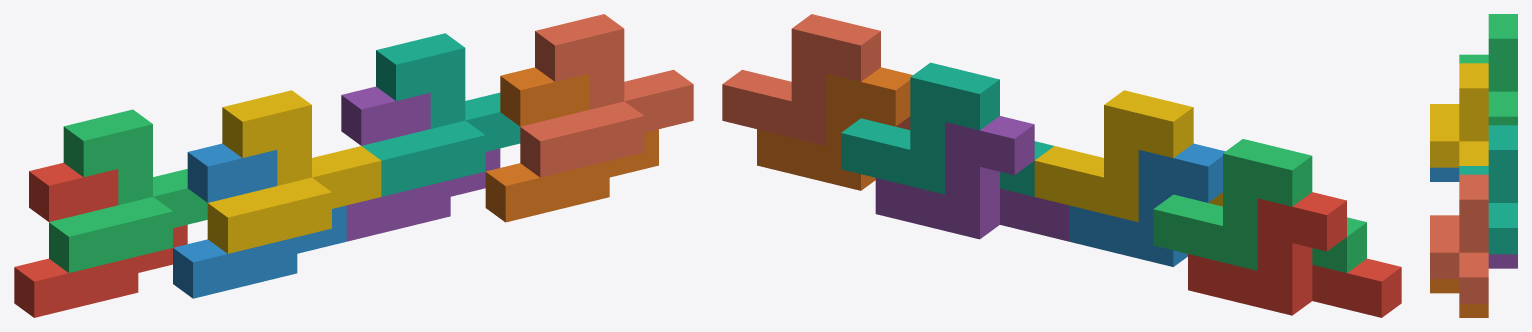
File: tiling.obj
3 renders of one model, left to right at view 1: azimuth 30°, elevation 25°; view 2: azimuth 150°, elevation 25°; view 3: azimuth 270°, elevation 25°, orthographic. The views are drawn at different scales.
Visible parts, largest first — view 1: copy_1_domain_8, copy_1_domain_4, copy_1_domain_3, copy_1_domain_7, copy_1_domain_2, copy_1_domain_6, copy_1_domain_1, copy_1_domain_5; view 2: copy_1_domain_1, copy_1_domain_5, copy_1_domain_3, copy_1_domain_7, copy_1_domain_8, copy_1_domain_4, copy_1_domain_2, copy_1_domain_6; view 3: copy_1_domain_8, copy_1_domain_4, copy_1_domain_7, copy_1_domain_3, copy_1_domain_6, copy_1_domain_5, copy_1_domain_2.
Part boxes in pixels (x1,y1,x2,y2): copy_1_domain_8: (520, 14, 693, 177); copy_1_domain_4: (207, 90, 381, 253); copy_1_domain_3: (49, 109, 207, 272); copy_1_domain_7: (362, 33, 520, 196); copy_1_domain_2: (173, 143, 346, 298); copy_1_domain_6: (485, 67, 658, 222); copy_1_domain_1: (14, 162, 187, 317); copy_1_domain_5: (341, 86, 500, 241); copy_1_domain_1: (1188, 192, 1401, 317); copy_1_domain_5: (875, 116, 1069, 241); copy_1_domain_3: (1153, 139, 1366, 272); copy_1_domain_7: (841, 62, 1053, 196); copy_1_domain_8: (722, 14, 910, 145); copy_1_domain_4: (1034, 90, 1222, 222); copy_1_domain_2: (1069, 143, 1225, 266); copy_1_domain_6: (757, 67, 912, 190); copy_1_domain_8: (1430, 174, 1488, 303); copy_1_domain_4: (1430, 63, 1488, 167); copy_1_domain_7: (1459, 125, 1517, 254); copy_1_domain_3: (1459, 14, 1517, 125); copy_1_domain_6: (1430, 279, 1488, 317); copy_1_domain_5: (1488, 254, 1517, 268); copy_1_domain_2: (1430, 167, 1459, 181).
Size of the model in its own units: 19 by 4 by 3.
